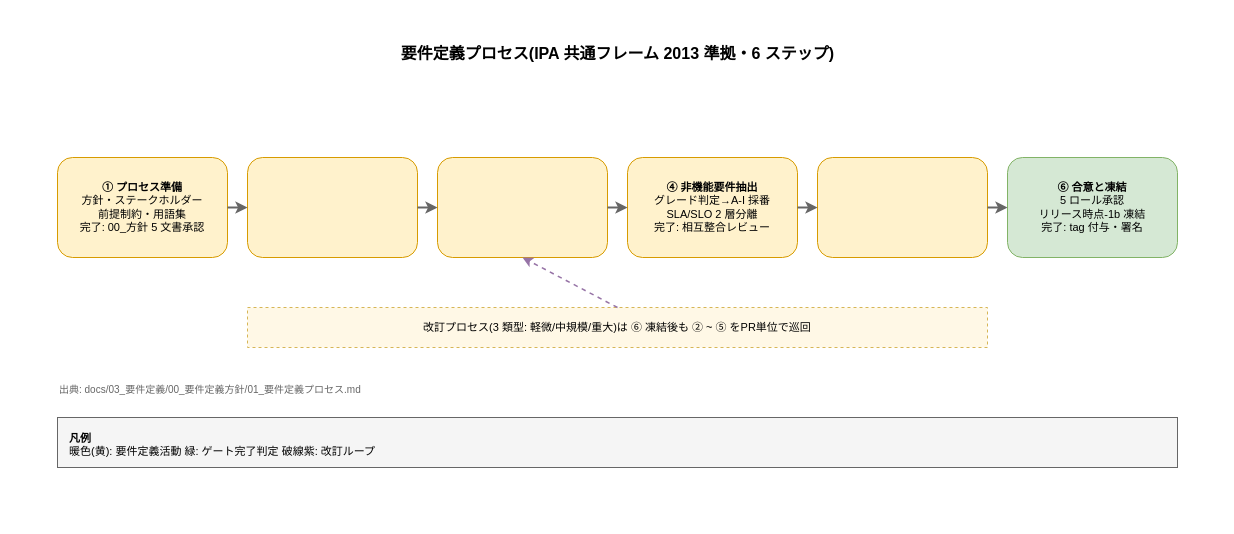
Some shapes in this 1234 by 534 pixel diagram are drawn without their labels. Here are the shapes that lost their labels. From the top down, the centre of each, then its label:
At point 332,207: "② 業務要件抽出 企画書KPI→業務要件 業務フロー(drawio) 完了: 利用者3種と対応".
At point 522,207: "③ 機能要件抽出 tier1 11 API+外部連携 情報要件・受入基準 完了: 構想設計と1対1".
At point 902,207: "⑤ トレーサビリティ 企画↔要件↔構想設計 孤立要件検出と補修 完了: マトリクス整合".
